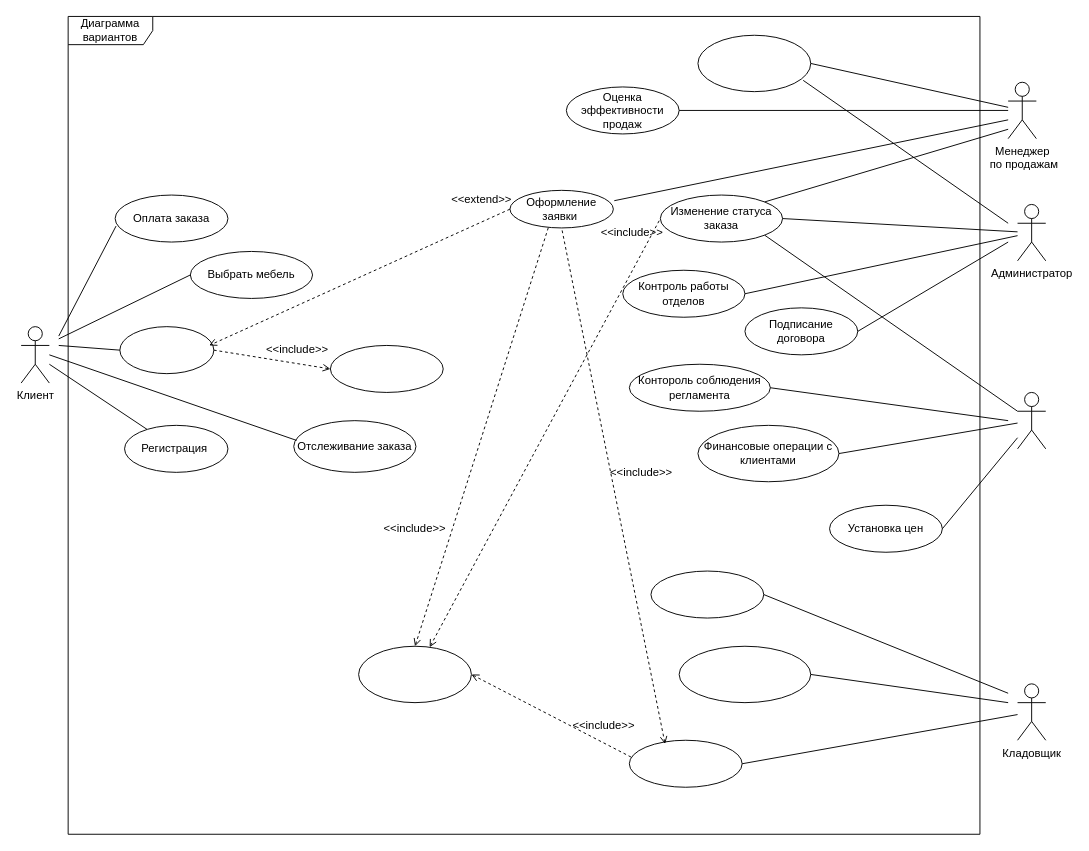
This 1089x851 diagram has some shape labels left out. Each missing label, with the box of its shape:
Бухгалтер: (1017, 392, 1046, 449)
Контроль процесса обработки заявки: (697, 34, 811, 92)
Оформить заказ: (119, 326, 214, 374)
Подготовка к отгрузке: (678, 645, 811, 703)
Прием мебели от поставщика: (650, 570, 764, 618)
Проверка наличия: (358, 645, 471, 703)
Резервирование товара: (628, 739, 742, 787)
Указать адрес доставки: (329, 345, 443, 392)
